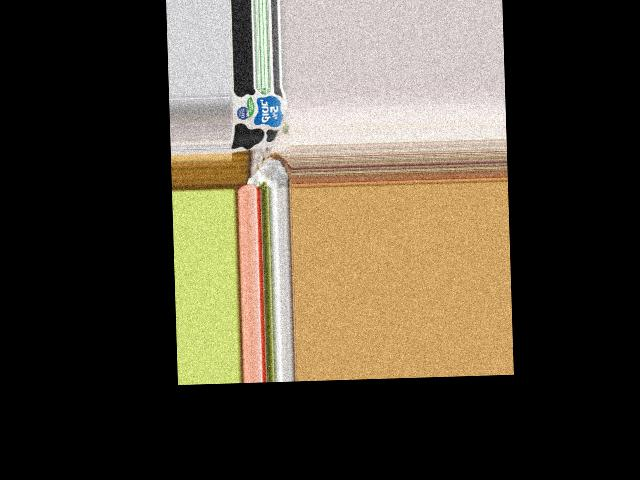cotage: (229, 87, 287, 149)
